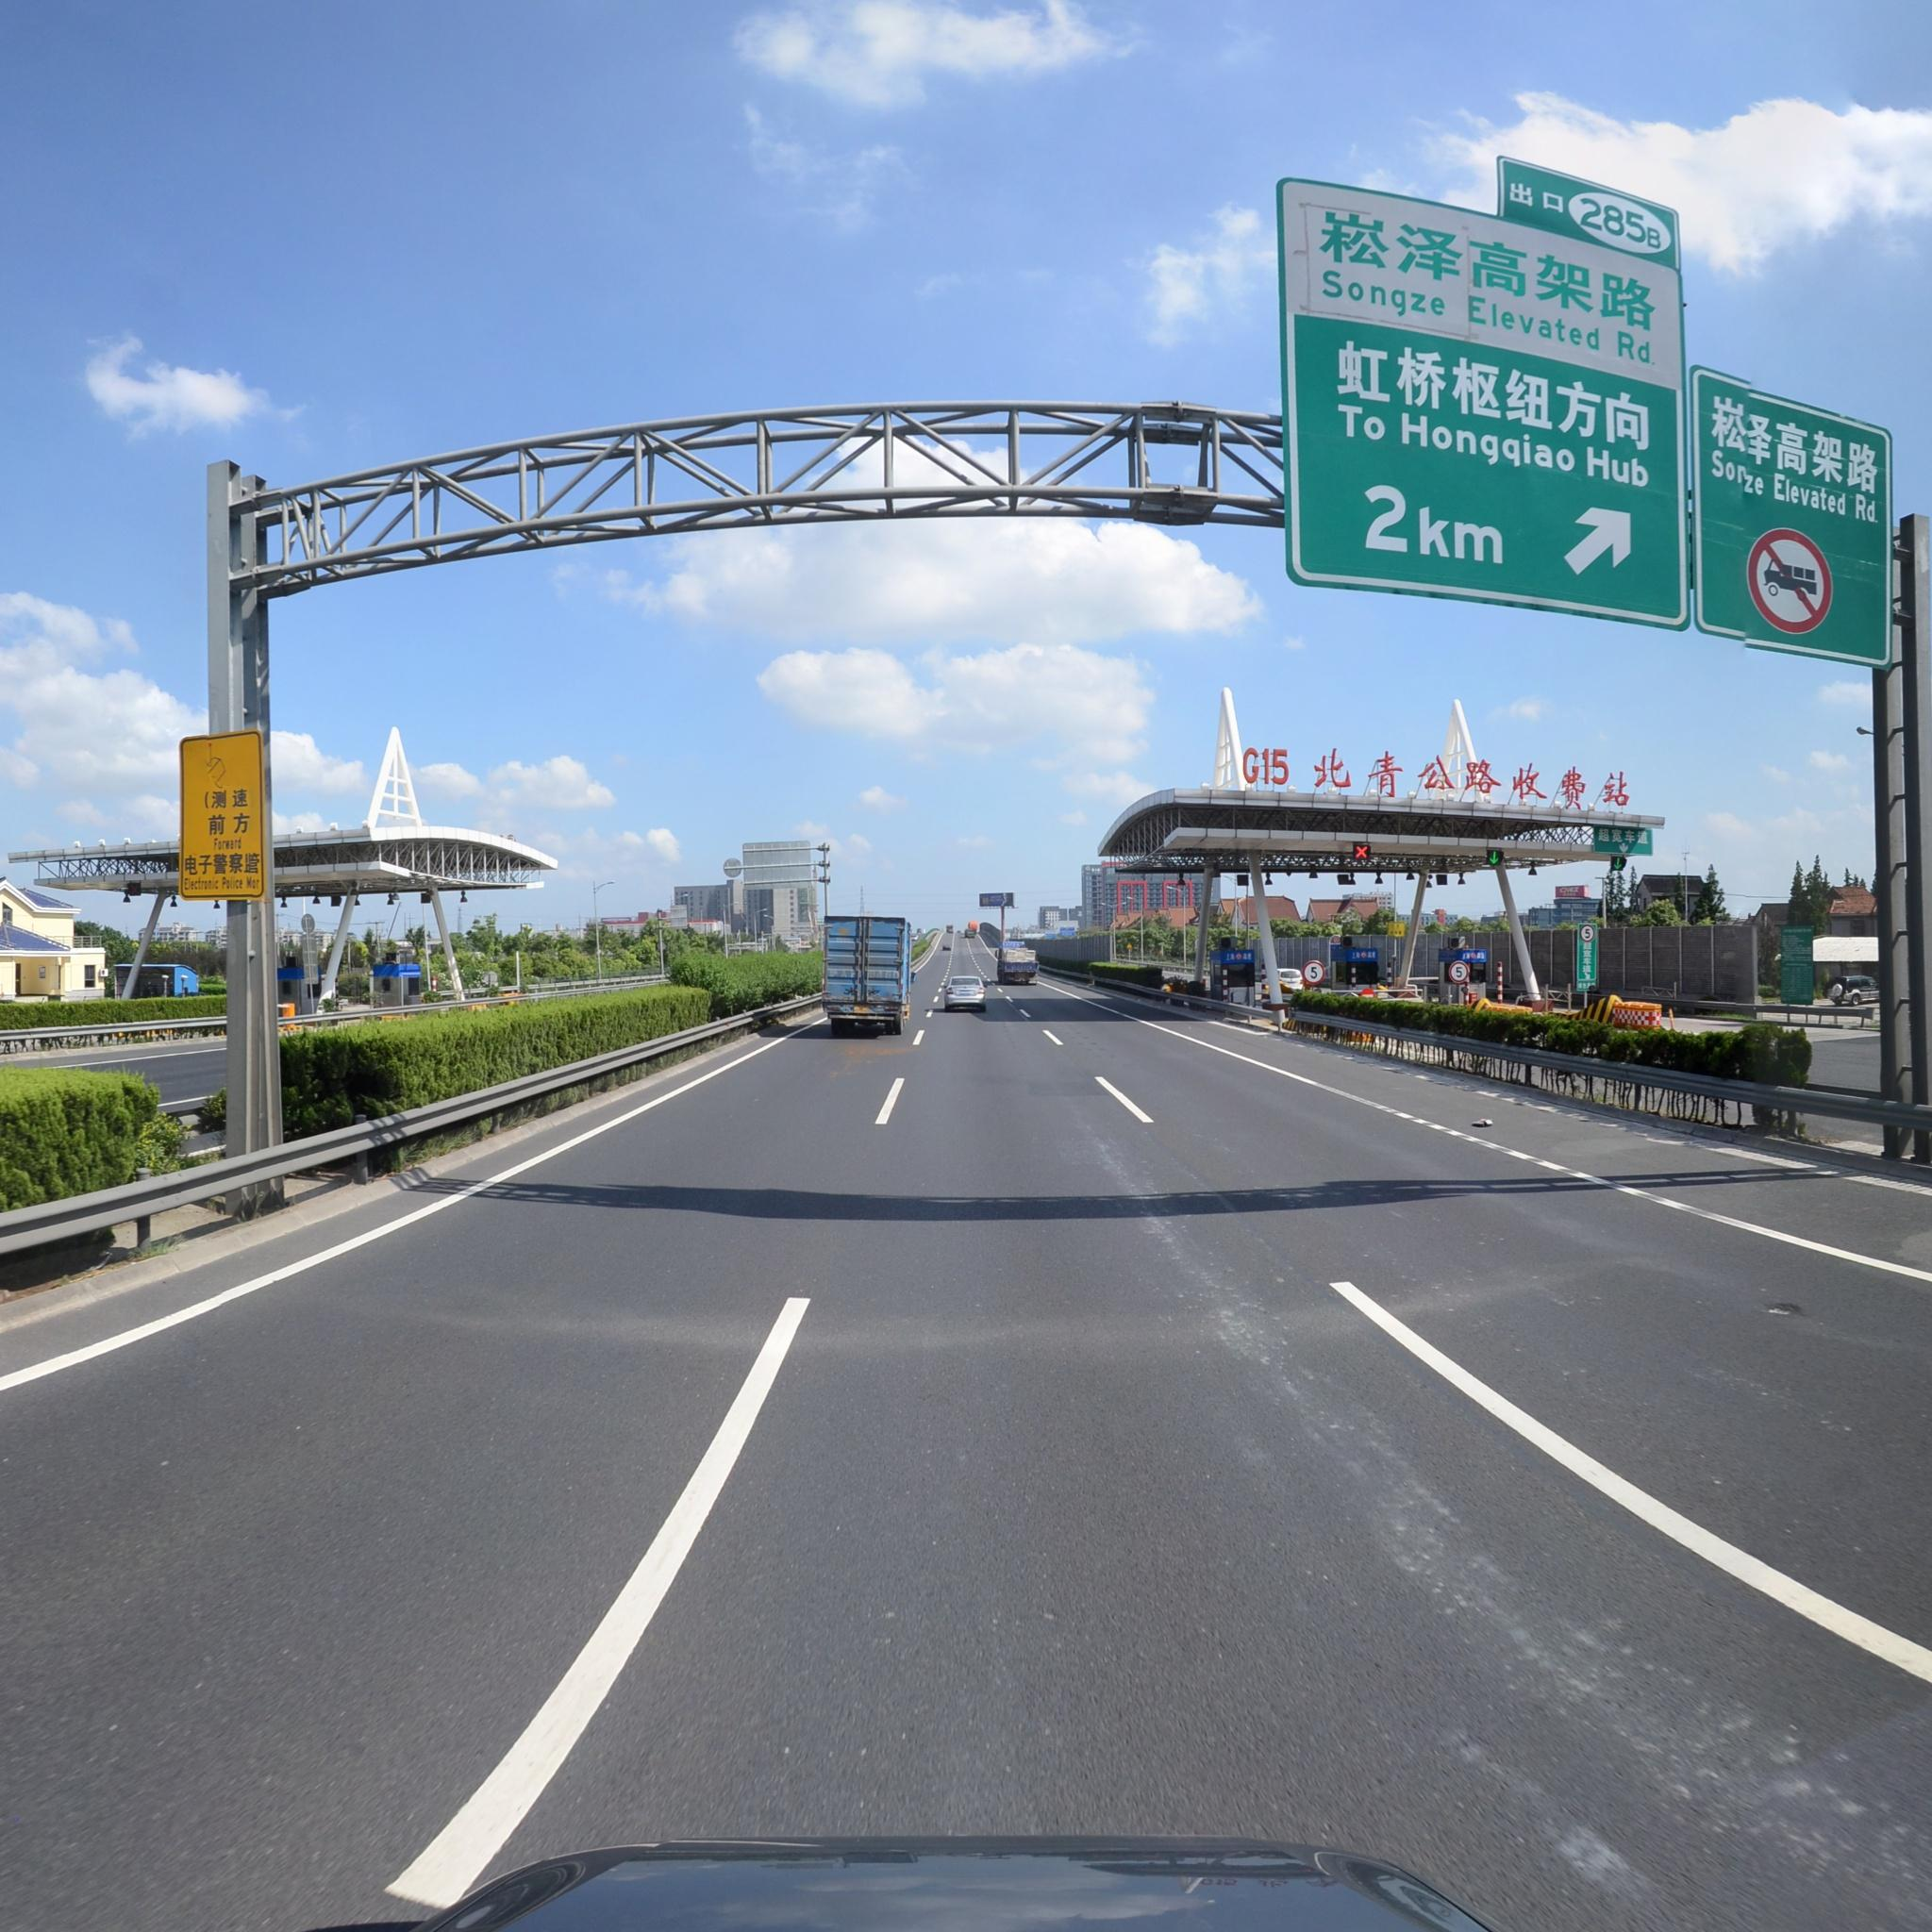p26: (1752, 524, 1835, 635)
pl5: (1302, 961, 1323, 987), (1451, 961, 1470, 984), (1582, 925, 1596, 945)
